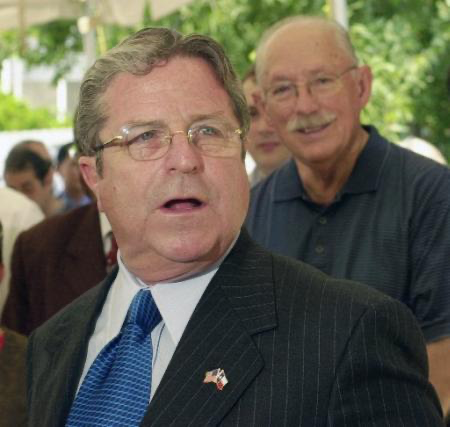Face: (100, 83, 253, 274), (261, 45, 362, 171)
